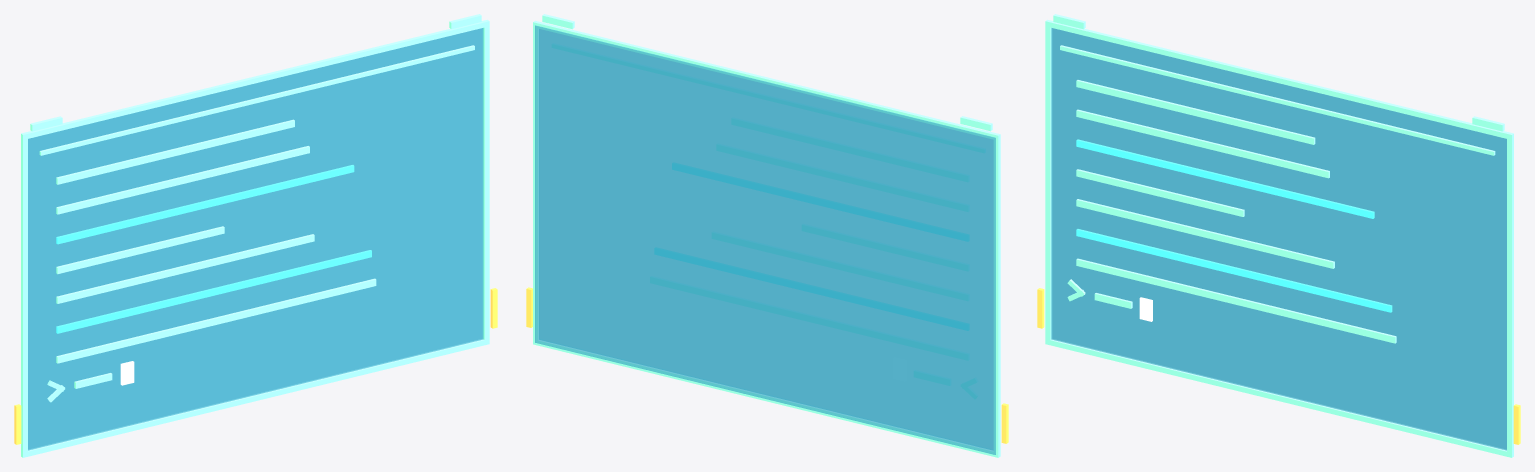
File: holo_terminal.glb
The picture shows the model from 3 angles, left to right: view 1: azimuth 30°, elevation 25°; view 2: azimuth 150°, elevation 25°; view 3: azimuth 330°, elevation 25°; orthographic projection.
Visible parts, largest first — view 1: holo_terminal; view 2: holo_terminal; view 3: holo_terminal.
Part boxes in pixels (<box>): holo_terminal: <box>14,14,497,457</box>; holo_terminal: <box>526,14,1008,457</box>; holo_terminal: <box>1037,14,1520,457</box>.
Size of the model in its own units: 0.792 by 0.521 by 0.014.
